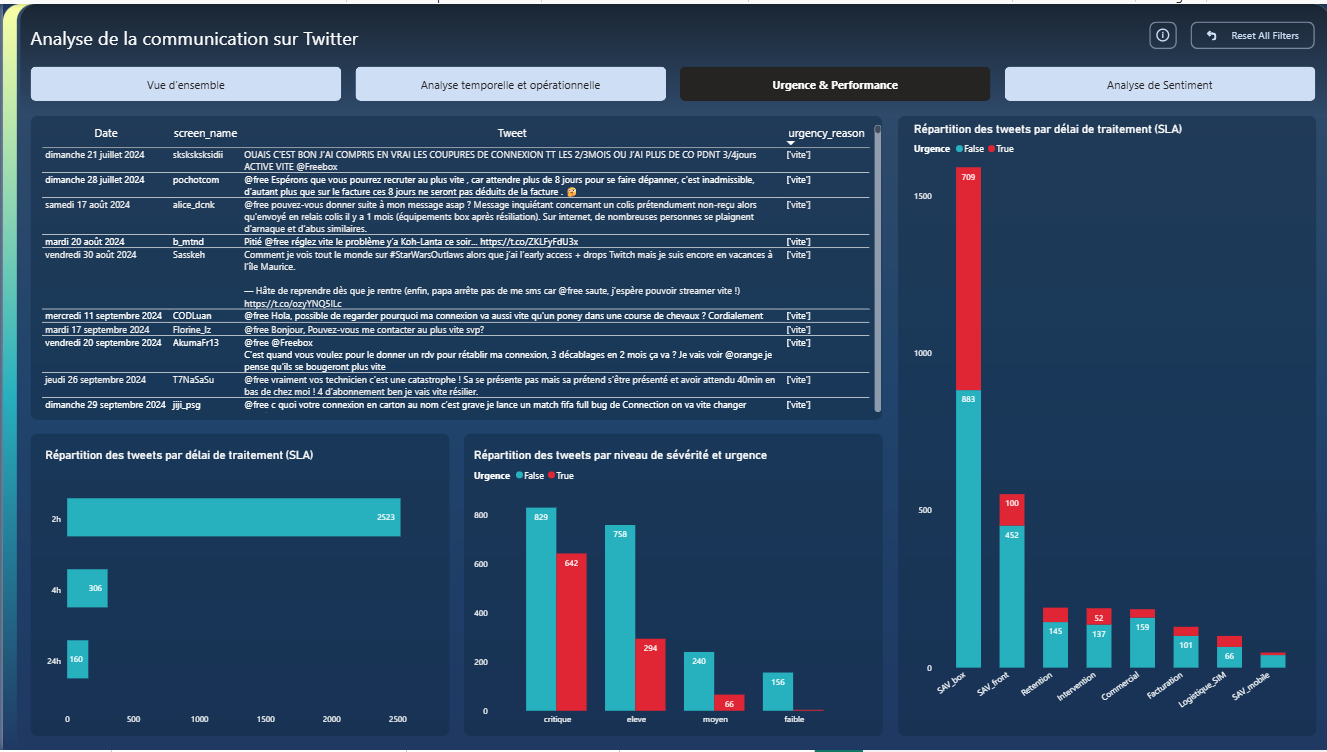

What the dashboard file says about the page in this screenshot:
{"tool":"powerbi","page":{"name":"Urgence & Performance","canvas":[1920,1080],"ordinal":2},"visuals":[{"type":"textbox","box":[40,30,599.9,50],"z":1000},{"type":"pageNavigator","box":[40,90,1860,50],"z":2000},{"type":"actionButton","box":[1720.1,25,180,40],"z":3000},{"type":"actionButton","box":[1660,25.3,40,40],"z":4000},{"type":"clusteredColumnChart","title":"Répartition des tweets par niveau de sévérité et urgence","fields":{"Category":["tweets_scored_llm_new.severity_level"],"Series":["tweets_scored_llm_new.urgency_flag"],"Y":["Mesures.Nb_Tweets_clients"]},"box":[677.4,642.3,565.6,410.7],"z":6000},{"type":"tableEx","fields":{"Values":["tweets_scored_llm_new.Date","tweets_scored_llm_new.screen_name","tweets_scored_llm_new.text_raw","tweets_scored_llm_new.urgency_reason"]},"box":[49.8,169.7,1225.4,425.5],"z":7000},{"type":"barChart","title":"Répartition des tweets par délai de traitement (SLA)","fields":{"Category":["tweets_scored_llm_new.sla_bucket"],"Y":["Mesures.Nb_Tweets_clients"]},"box":[55.2,642.3,575,410.7],"z":8000},{"type":"columnChart","title":"Répartition des tweets par délai de traitement (SLA)","fields":{"Y":["Mesures.Nb_Tweets_clients"],"Category":["tweets_scored_llm_new.routing_team"],"Series":["tweets_scored_llm_new.urgency_flag"]},"box":[1313,169.7,575,872.6],"z":9000}]}

Visuals, with their boxes in screenshot pixels (x1, y1, x2, y2), scaled from the page's 1920x1080 canvas onto the 1327x752 screenshot:
textbox: x1=28 y1=21 x2=442 y2=56
pageNavigator: x1=28 y1=63 x2=1313 y2=97
actionButton: x1=1189 y1=17 x2=1313 y2=45
actionButton: x1=1147 y1=18 x2=1175 y2=45
"Répartition des tweets par niveau de sévérité et urgence" clusteredColumnChart: x1=468 y1=447 x2=859 y2=733
tableEx - tweets_scored_llm_new.Date x tweets_scored_llm_new.screen_name: x1=34 y1=118 x2=881 y2=414
"Répartition des tweets par délai de traitement (SLA)" barChart: x1=38 y1=447 x2=436 y2=733
"Répartition des tweets par délai de traitement (SLA)" columnChart: x1=907 y1=118 x2=1305 y2=726
